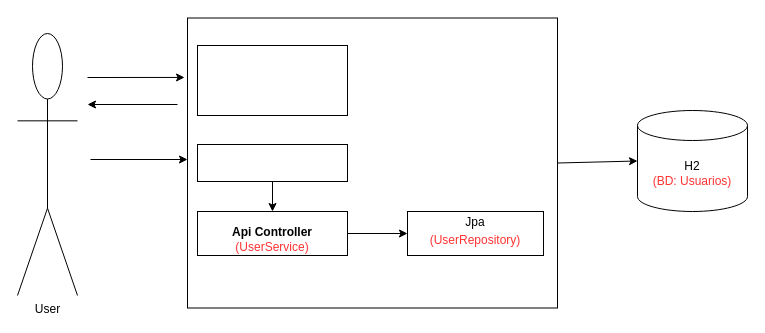
The diagram is 765 pixels wide and 333 high, and some of its shapes have lost their labels. The shapes that lost their labels are listed below. From the top down, each one's box as (x1, y1, x2, y2) in pixels, then its label:
(196, 44, 348, 116): Authorization Server (JwTokenService AuthService )
(196, 144, 348, 182): Authentication Filter (JwtRequestFilter)
